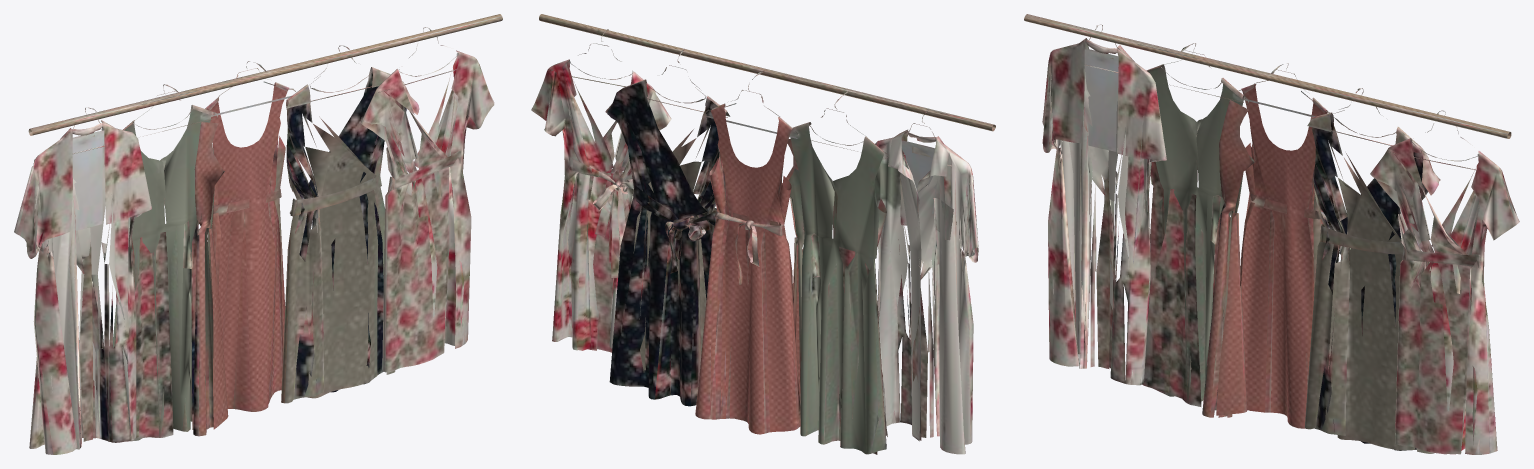
Rendered from mall-womens-dresses-group.glb.
3 renders of one model, left to right at view 1: azimuth 30°, elevation 25°; view 2: azimuth 150°, elevation 25°; view 3: azimuth 330°, elevation 25°, orthographic. The views are drawn at different scales.
Visible parts, largest first — view 1: womens-dresses-group; view 2: womens-dresses-group; view 3: womens-dresses-group.
Boxes of the visible parts, x1,y1,x2,y2 form: womens-dresses-group: (14,14,502,454); womens-dresses-group: (531,14,995,454); womens-dresses-group: (1024,14,1519,454).
Size of the model in its own units: 1.45 by 1.05 by 0.1667.
Materials: 1 (1 with a texture image).
